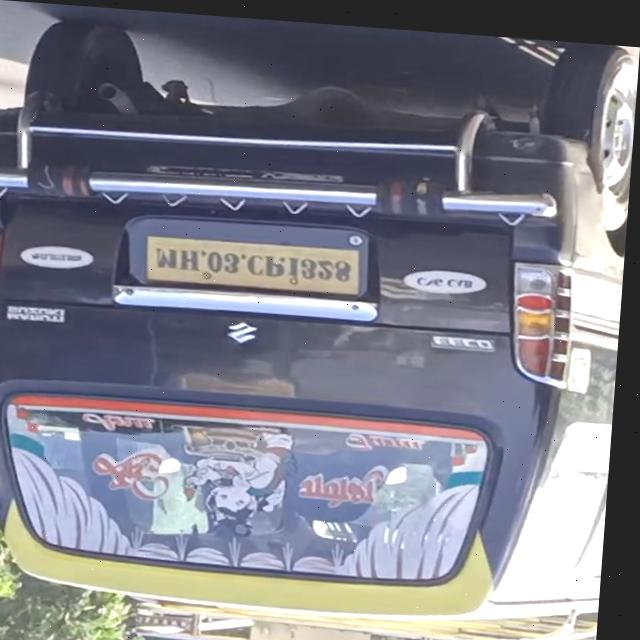plate: (147, 229, 364, 290)
